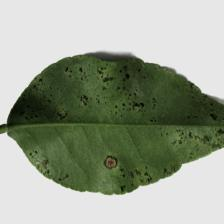canker: (32, 70, 192, 190)
